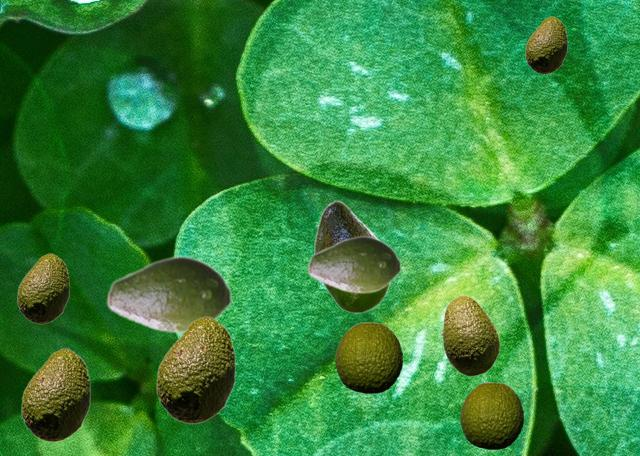avocado: (106, 255, 232, 333), (314, 200, 390, 312), (156, 316, 234, 423), (21, 348, 89, 441), (307, 235, 401, 293), (440, 295, 499, 375), (335, 322, 401, 392), (460, 382, 522, 448), (17, 253, 68, 323), (525, 16, 566, 73)
